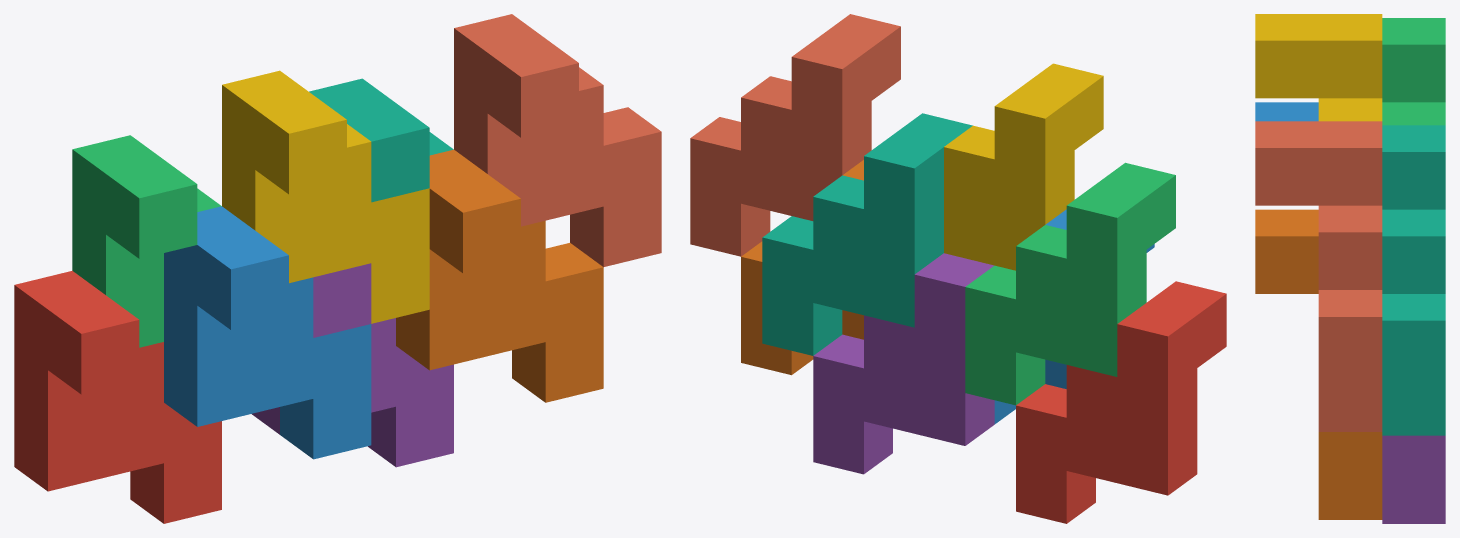
The model's file is tiling.obj.
3 renders of one model, left to right at view 1: azimuth 30°, elevation 25°; view 2: azimuth 150°, elevation 25°; view 3: azimuth 270°, elevation 25°, orthographic. The views are drawn at different scales.
Visible parts, largest first — view 1: copy_1_domain_2, copy_1_domain_1, copy_1_domain_8, copy_1_domain_6, copy_1_domain_4, copy_1_domain_3, copy_1_domain_5, copy_1_domain_7; view 2: copy_1_domain_1, copy_1_domain_3, copy_1_domain_8, copy_1_domain_7, copy_1_domain_5, copy_1_domain_4, copy_1_domain_6, copy_1_domain_2; view 3: copy_1_domain_8, copy_1_domain_7, copy_1_domain_4, copy_1_domain_6, copy_1_domain_3, copy_1_domain_5, copy_1_domain_2.
Boxes of the visible parts, <box> form: copy_1_domain_2: <box>164,206,371,459</box>; copy_1_domain_1: <box>14,270,221,523</box>; copy_1_domain_8: <box>454,14,661,267</box>; copy_1_domain_6: <box>396,149,603,402</box>; copy_1_domain_4: <box>222,70,429,323</box>; copy_1_domain_3: <box>72,135,221,347</box>; copy_1_domain_5: <box>252,263,453,467</box>; copy_1_domain_7: <box>309,78,453,202</box>; copy_1_domain_1: <box>1016,281,1226,523</box>; copy_1_domain_3: <box>965,162,1175,405</box>; copy_1_domain_8: <box>690,14,900,256</box>; copy_1_domain_7: <box>762,113,972,355</box>; copy_1_domain_5: <box>813,253,994,474</box>; copy_1_domain_4: <box>944,63,1103,270</box>; copy_1_domain_6: <box>741,160,863,375</box>; copy_1_domain_2: <box>994,209,1154,424</box>; copy_1_domain_8: <box>1255,121,1382,431</box>; copy_1_domain_7: <box>1382,125,1445,435</box>; copy_1_domain_4: <box>1255,14,1382,121</box>; copy_1_domain_6: <box>1255,209,1382,519</box>; copy_1_domain_3: <box>1382,18,1445,125</box>; copy_1_domain_5: <box>1382,435,1445,523</box>; copy_1_domain_2: <box>1255,102,1318,121</box>.
Size of the model in its own units: 10 by 7 by 3.
